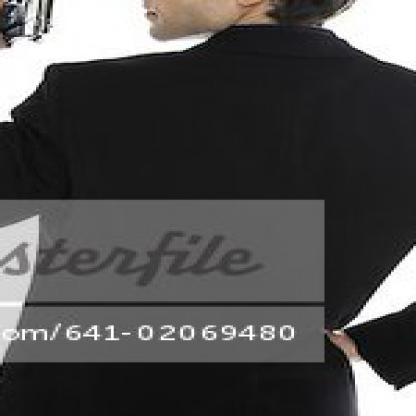gun: (0, 0, 83, 72)
